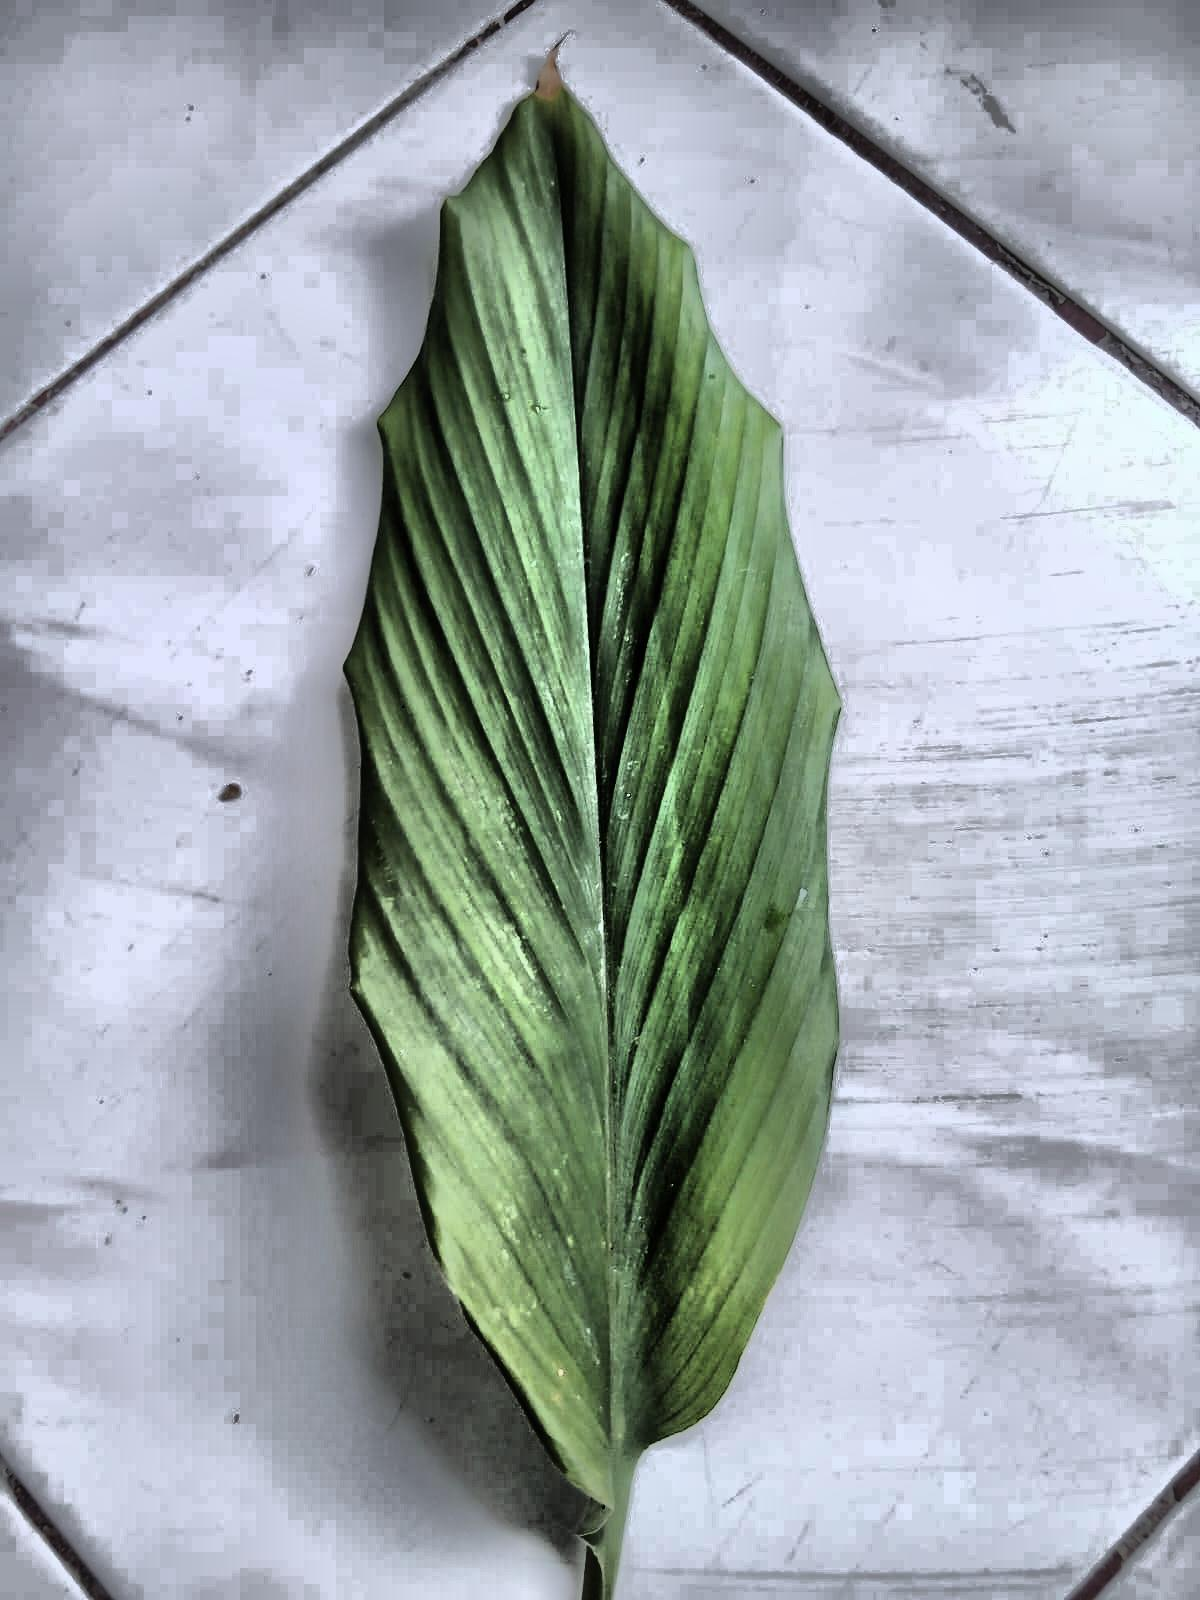daun kunyit: (345, 60, 839, 1599)
